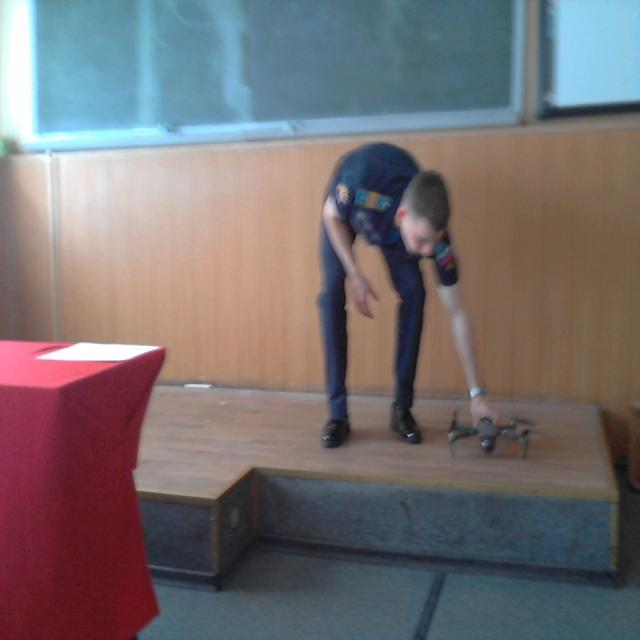drone: (434, 392, 542, 468)
